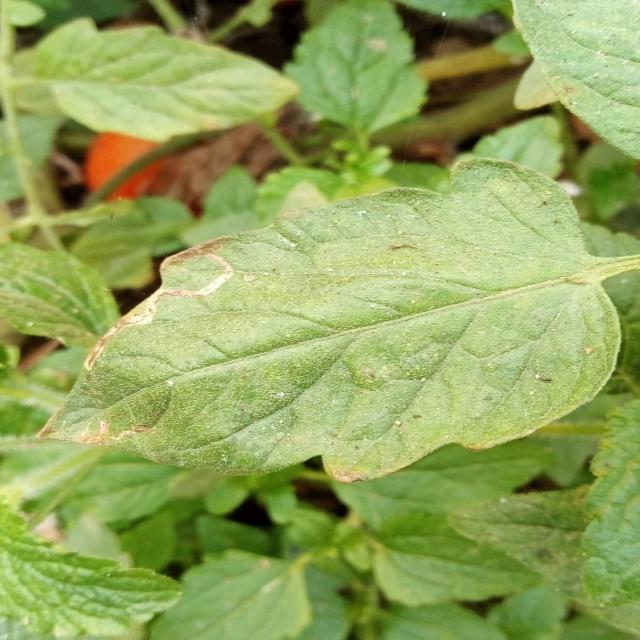Tuta absoluta: (98, 250, 237, 355), (81, 413, 149, 445)
